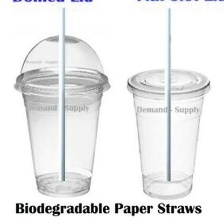drinking_straw: (48, 3, 73, 186), (153, 0, 177, 184)
glass: (9, 31, 109, 201), (120, 58, 209, 205)
